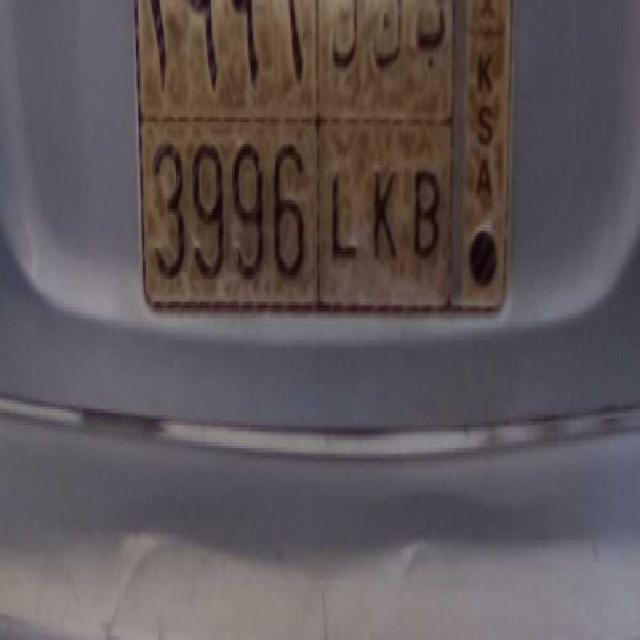license_plate: (138, 110, 452, 307)
